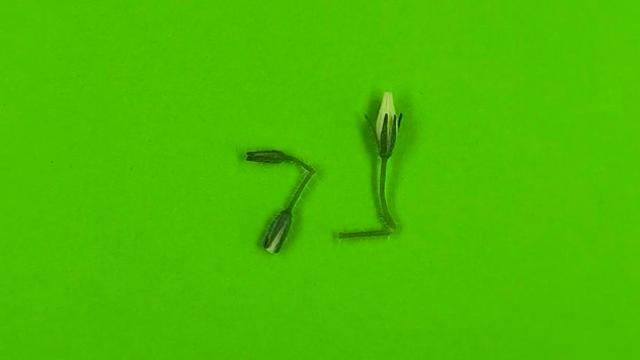Flower Bud: (374, 92, 400, 152), (262, 210, 291, 254), (245, 150, 292, 164)
